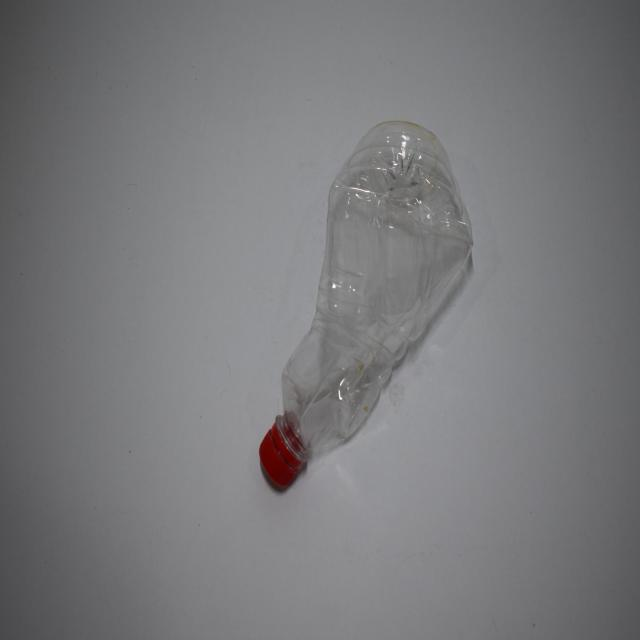bottle: (240, 90, 484, 509)
